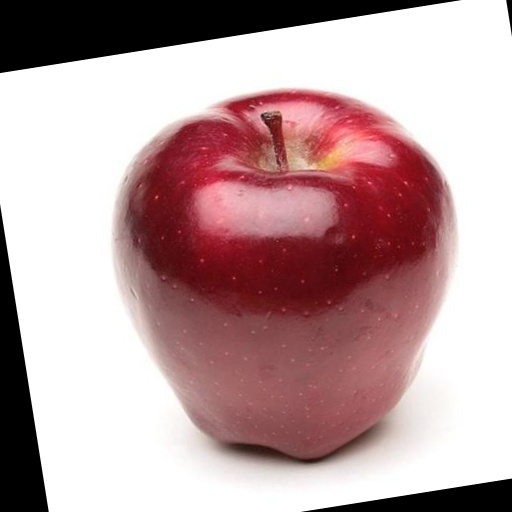fruit: (114, 90, 456, 458)
